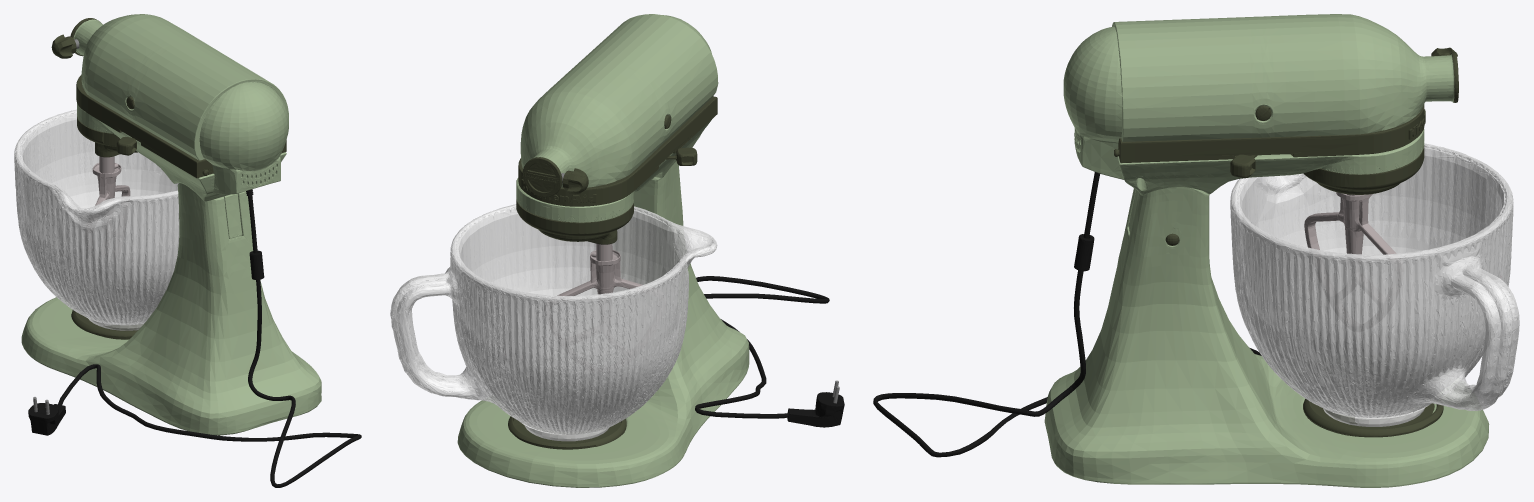
File: mixer_green.glb
3 views of the same model, side by side, from view 1: azimuth 30°, elevation 25°; view 2: azimuth 150°, elevation 25°; view 3: azimuth 270°, elevation 25° (orthographic). The views are drawn at different scales.
Visible parts, largest first — view 1: 73313671-b353-42fa-92b9-5f5012bf86ed, 22939425-c426-4907-ae68-82799dfbd4ae, 1ac31586-0662-4245-a263-cbee56a52540; view 2: 22939425-c426-4907-ae68-82799dfbd4ae, 73313671-b353-42fa-92b9-5f5012bf86ed, 1ac31586-0662-4245-a263-cbee56a52540; view 3: 73313671-b353-42fa-92b9-5f5012bf86ed, 22939425-c426-4907-ae68-82799dfbd4ae, 1ac31586-0662-4245-a263-cbee56a52540.
Part boxes in pixels (x1,y1,x2,y2): 73313671-b353-42fa-92b9-5f5012bf86ed: [21, 14, 321, 435]; 22939425-c426-4907-ae68-82799dfbd4ae: [14, 109, 179, 330]; 1ac31586-0662-4245-a263-cbee56a52540: [28, 18, 361, 487]; 22939425-c426-4907-ae68-82799dfbd4ae: [390, 204, 717, 441]; 73313671-b353-42fa-92b9-5f5012bf86ed: [457, 14, 749, 487]; 1ac31586-0662-4245-a263-cbee56a52540: [508, 96, 844, 449]; 73313671-b353-42fa-92b9-5f5012bf86ed: [1044, 14, 1489, 487]; 22939425-c426-4907-ae68-82799dfbd4ae: [1230, 143, 1519, 426]; 1ac31586-0662-4245-a263-cbee56a52540: [873, 47, 1458, 457].
Size of the model in its own units: 0.1219 by 0.1288 by 0.1838.
